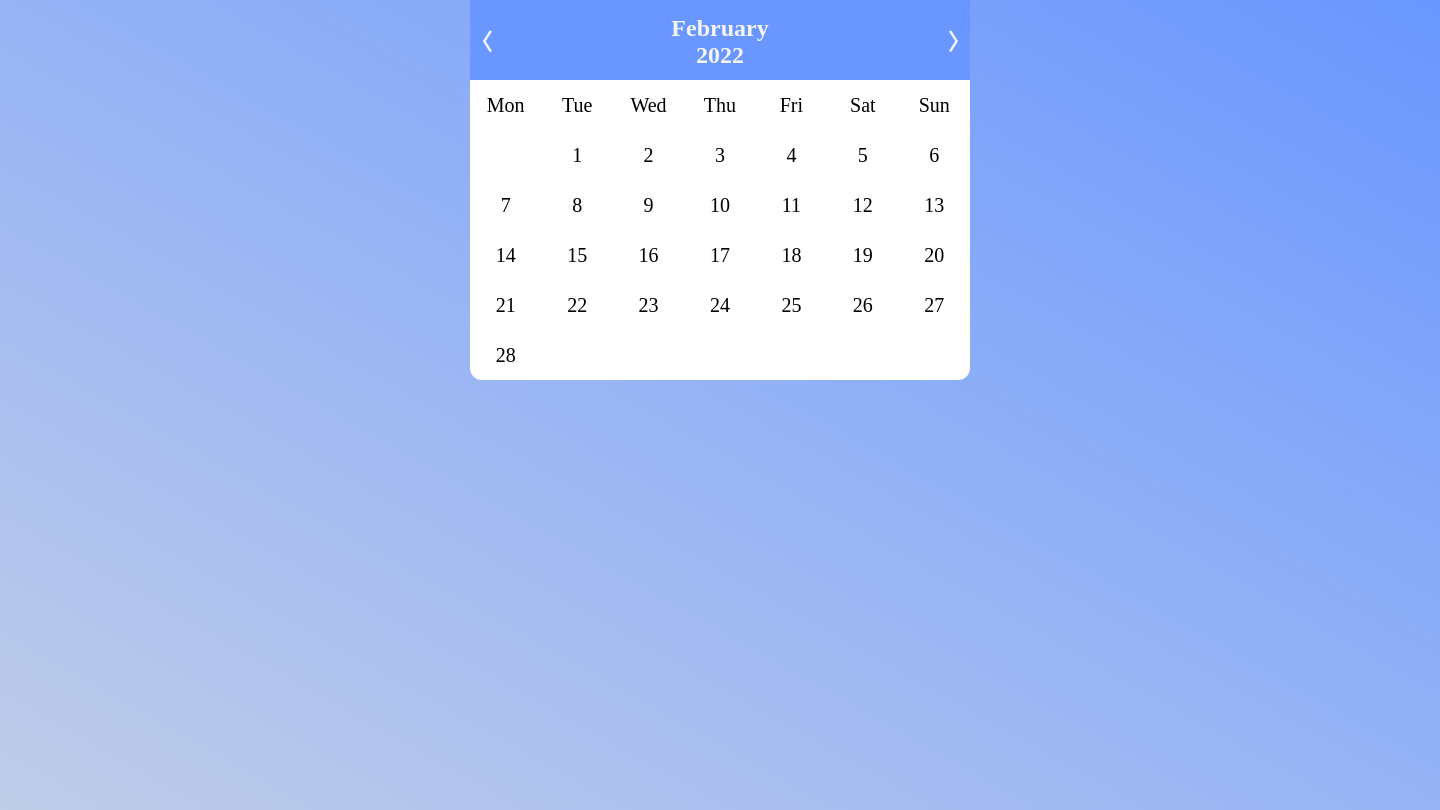
Test: Testing Calendar Component › Should show a list of years
Click the text with class "actualYear". click: (720, 56)
box: [696, 42, 744, 69]
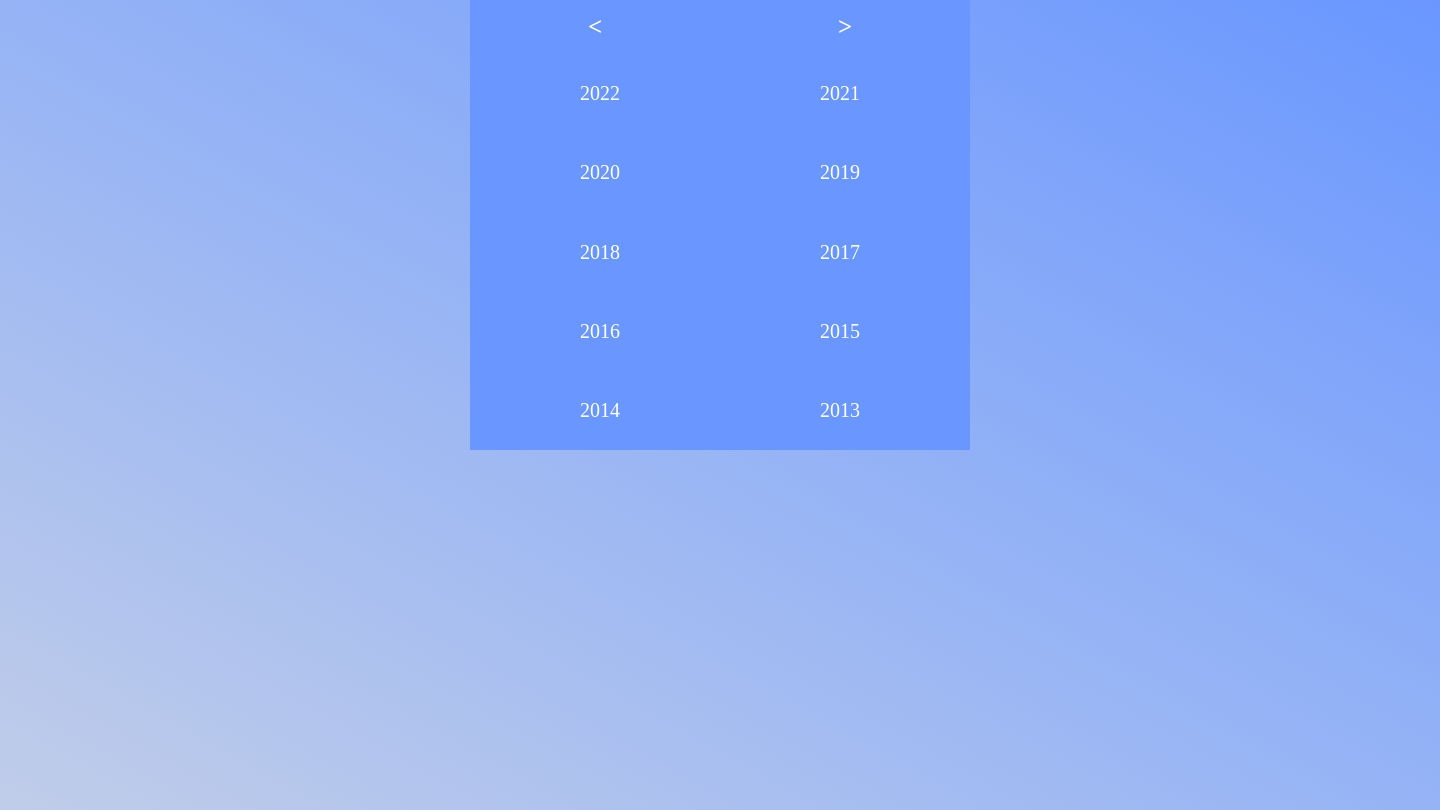
Expected: the text "2013" is shown, [720, 385, 960, 435]
Click the text with class "select-year" showing "2022". click: (600, 94)
box: [480, 69, 720, 119]
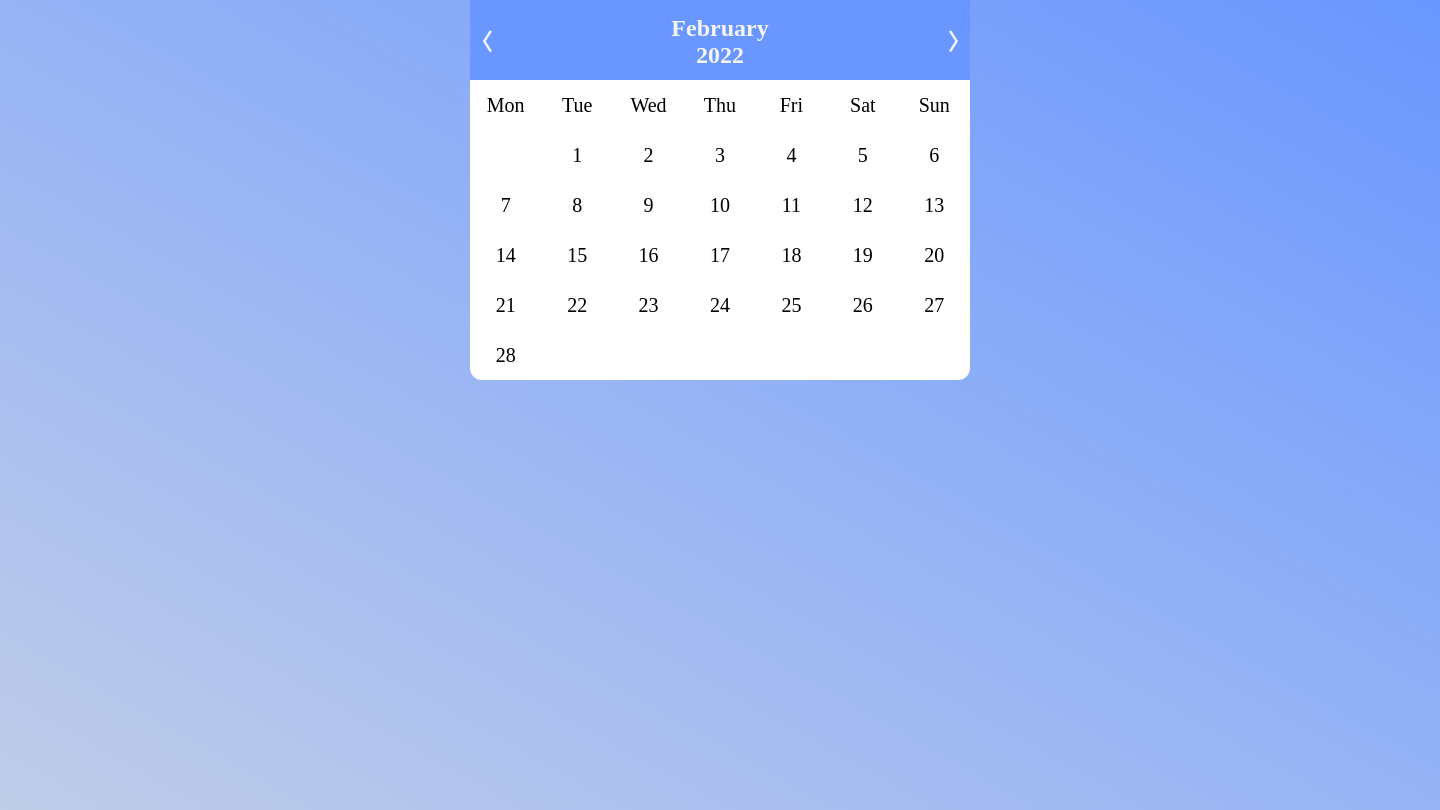
Expected: the text with class "select-year" is gone
